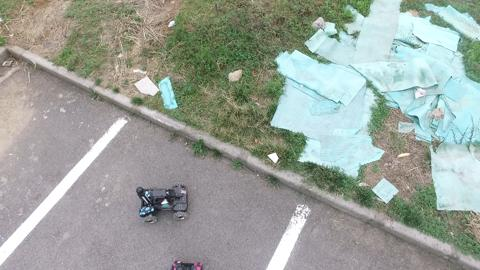chariot: (128, 177, 200, 227)
